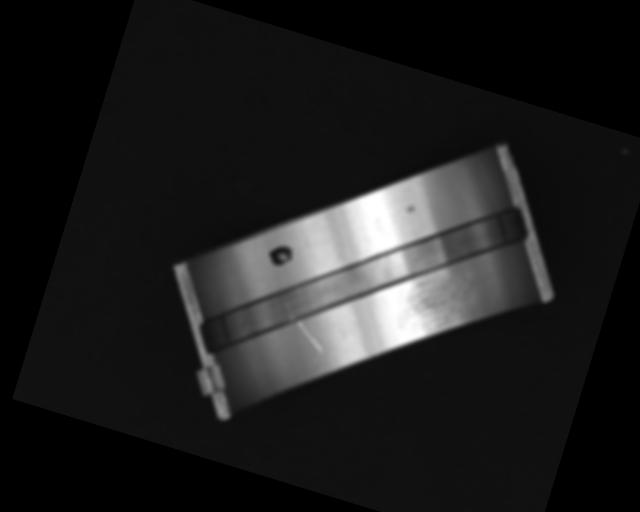blot: (265, 240, 296, 272)
bruise: (404, 203, 416, 216)
gap: (192, 132, 534, 433)
nick: (292, 319, 331, 353), (293, 227, 323, 261)
scratch: (389, 264, 483, 355)
